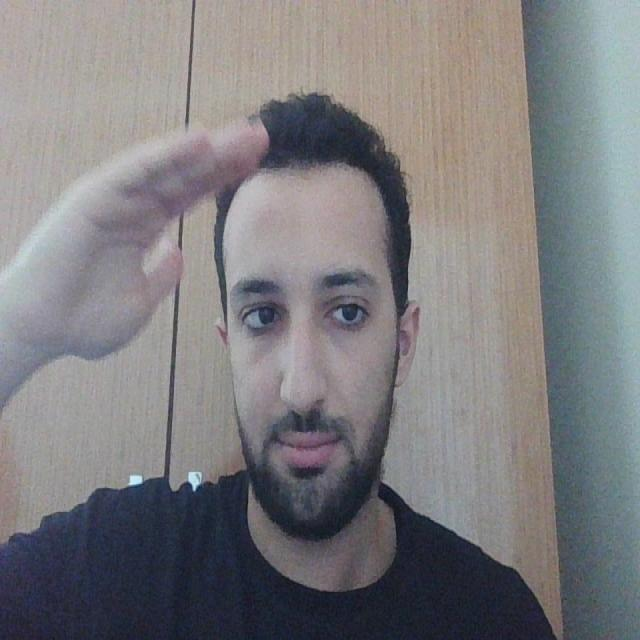Merhaba: (13, 99, 278, 445)
